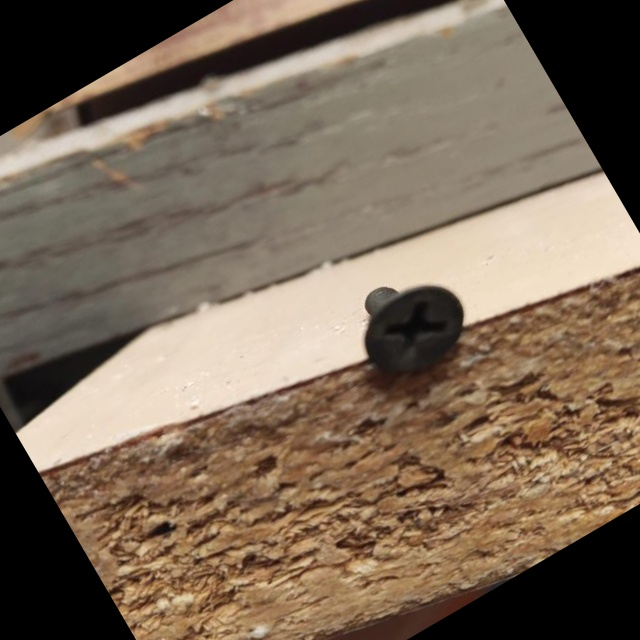phillips: (347, 269, 483, 393)
